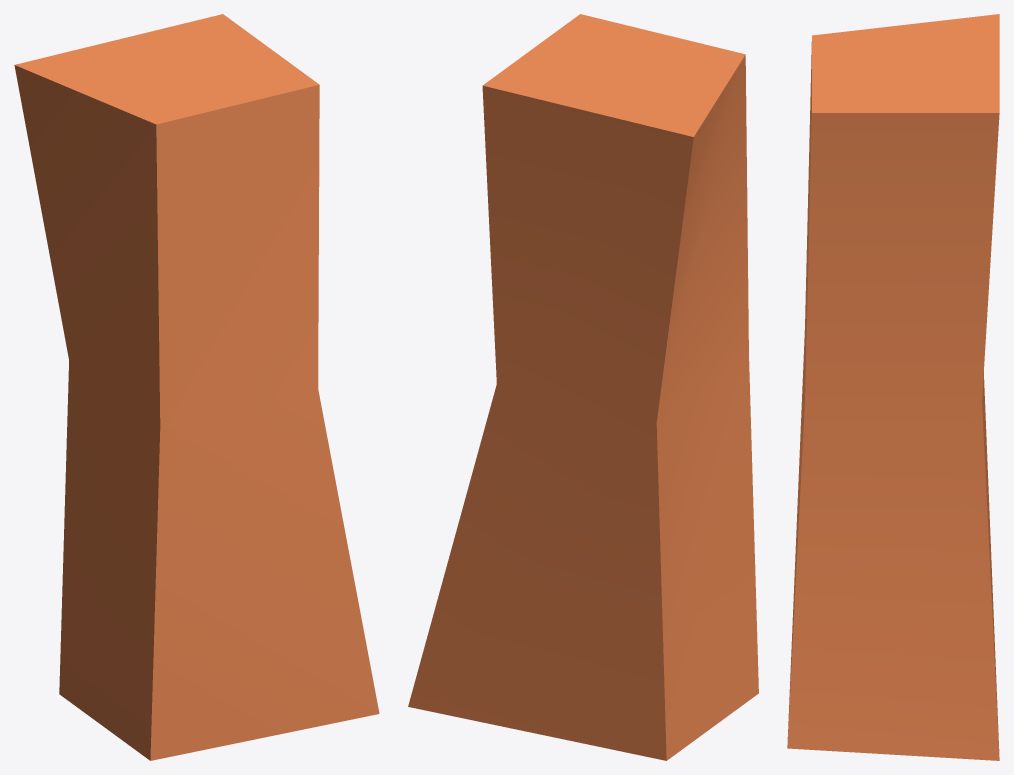
3 views of the same model, side by side, from view 1: azimuth 30°, elevation 25°; view 2: azimuth 150°, elevation 25°; view 3: azimuth 270°, elevation 25° (orthographic). The views are drawn at different scales.
Visible parts, largest first — view 1: rightLeg; view 2: rightLeg; view 3: rightLeg.
Part boxes in pixels (x1=…): rightLeg: x1=14, y1=14, x2=379, y2=760; rightLeg: x1=408, y1=14, x2=758, y2=760; rightLeg: x1=787, y1=14, x2=999, y2=760.
Bounding box in the file's own units: 1.61 × 3.45 × 1.08.
